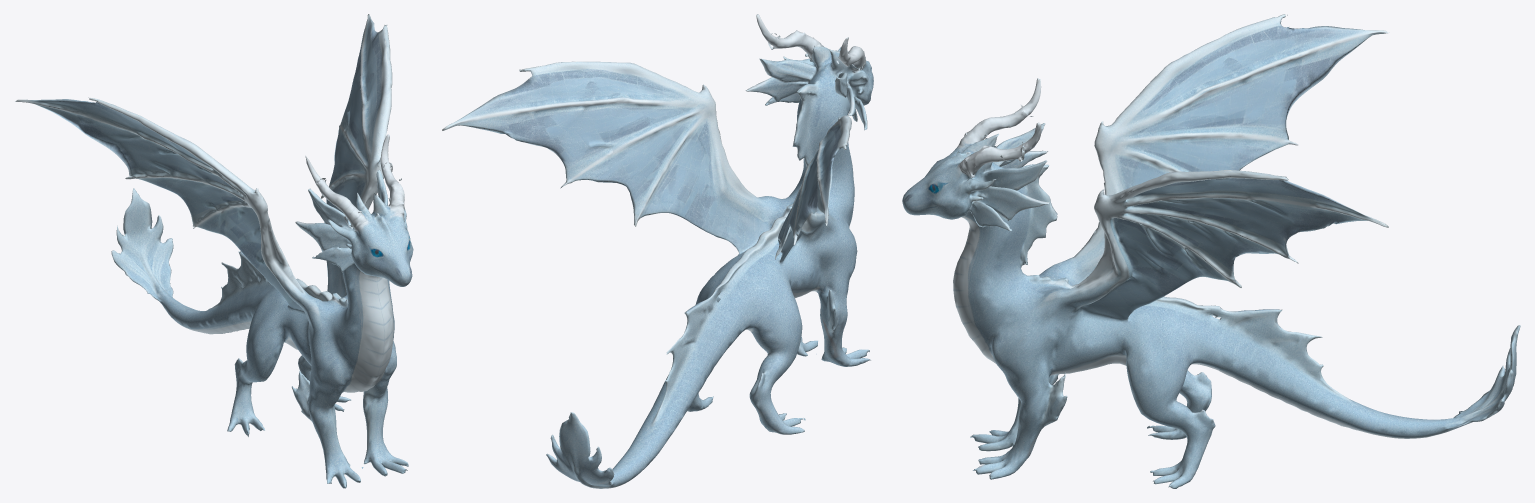
Rendered from crystal_dragon.glb.
3 views of the same model, side by side, from view 1: azimuth 30°, elevation 25°; view 2: azimuth 150°, elevation 25°; view 3: azimuth 270°, elevation 25° (orthographic). The views are drawn at different scales.
Size of the model in its own units: 1.49 by 1.29 by 2.
1 material, 1 textured.
